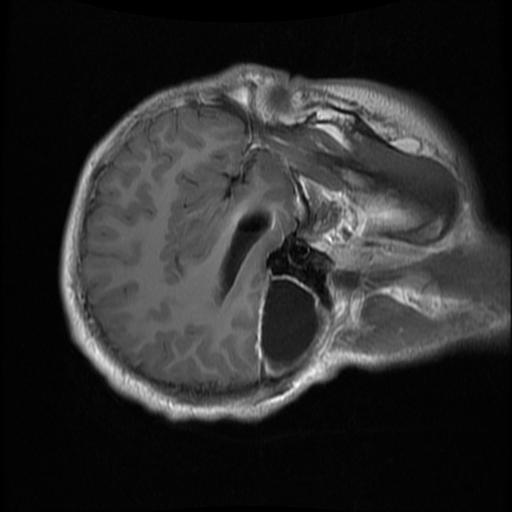glioma: (258, 277, 319, 366)
